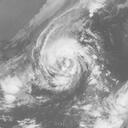cyclone: (31, 36, 89, 93)
